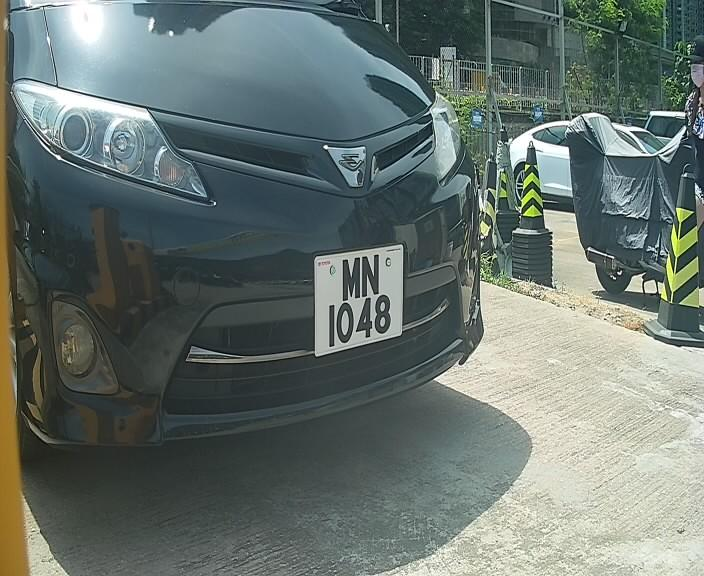License Plate: (305, 232, 409, 368)
